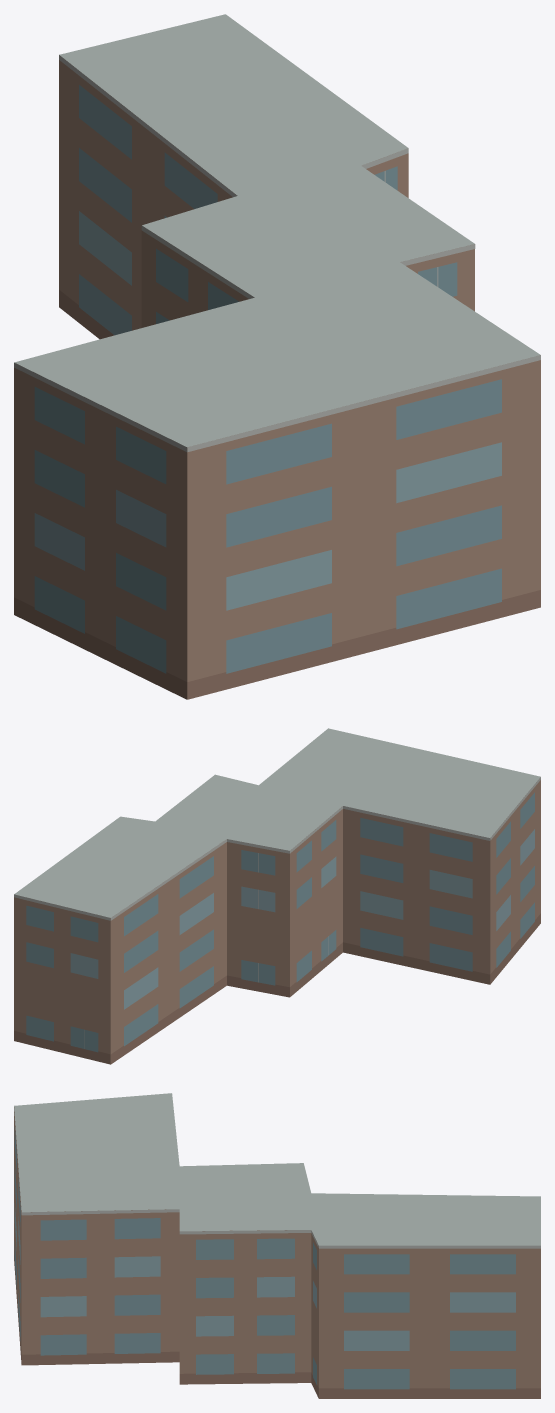
Rendered from residential-f83c443c-70cc-448d-bb3b-c2051d19d013.glb.
3 views of the same model, one above another, from view 1: azimuth 30°, elevation 25°; view 2: azimuth 150°, elevation 25°; view 3: azimuth 270°, elevation 25° (orthographic). The views are drawn at different scales.
Parts seen in each view (by area): view 1: residential-f83c443c-70cc-448d-bb3b-c2051d19d013.tmp; view 2: residential-f83c443c-70cc-448d-bb3b-c2051d19d013.tmp; view 3: residential-f83c443c-70cc-448d-bb3b-c2051d19d013.tmp.
Part boxes in pixels (x1,y1,x2,y2): residential-f83c443c-70cc-448d-bb3b-c2051d19d013.tmp: (14, 14, 540, 699); residential-f83c443c-70cc-448d-bb3b-c2051d19d013.tmp: (14, 728, 540, 1064); residential-f83c443c-70cc-448d-bb3b-c2051d19d013.tmp: (14, 1093, 540, 1398).
Size of the model in its own units: 26.09 by 12.2 by 38.05.
